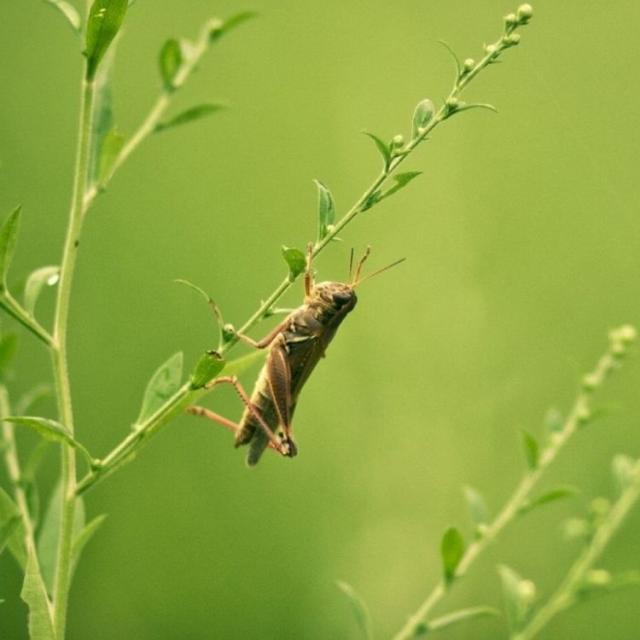ZhaMeng: (172, 248, 417, 466)
